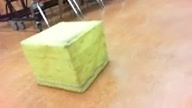cube: (19, 21, 109, 93)
